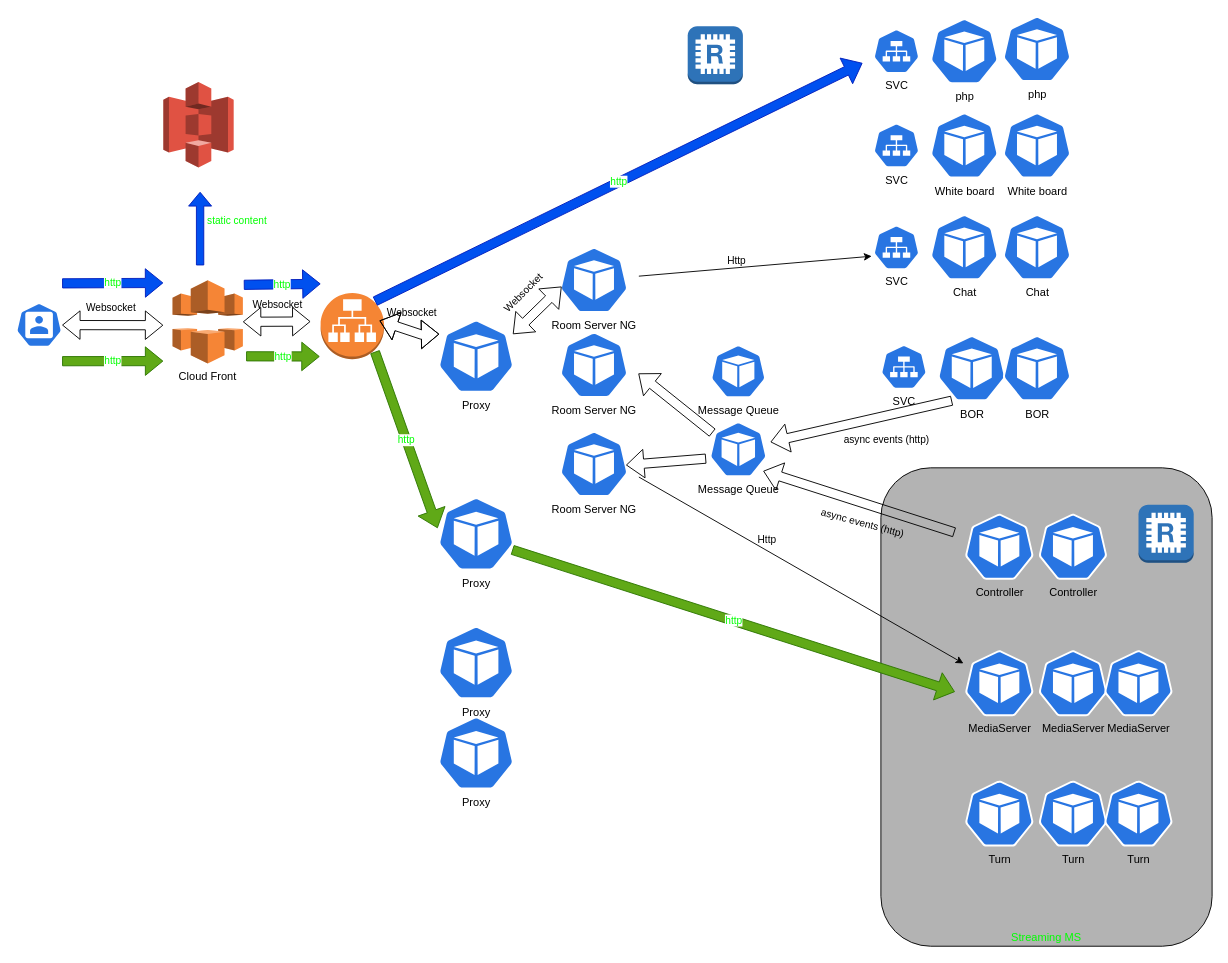
This 1228x963 diagram has some shape labels left out. The shapes that lost their labels are listed below. From the top down, each one's centre as x and y in pixels, then its label:
At [198,124]: "S3 bucket".
At [352,325]: "ALB".
